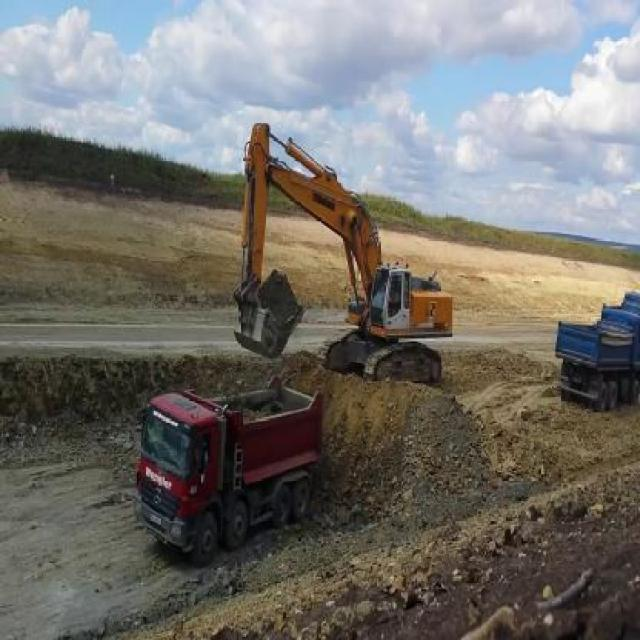Dump Truck: (133, 376, 322, 566), (555, 302, 639, 413), (599, 288, 639, 332)
Excavator: (234, 122, 452, 386)
